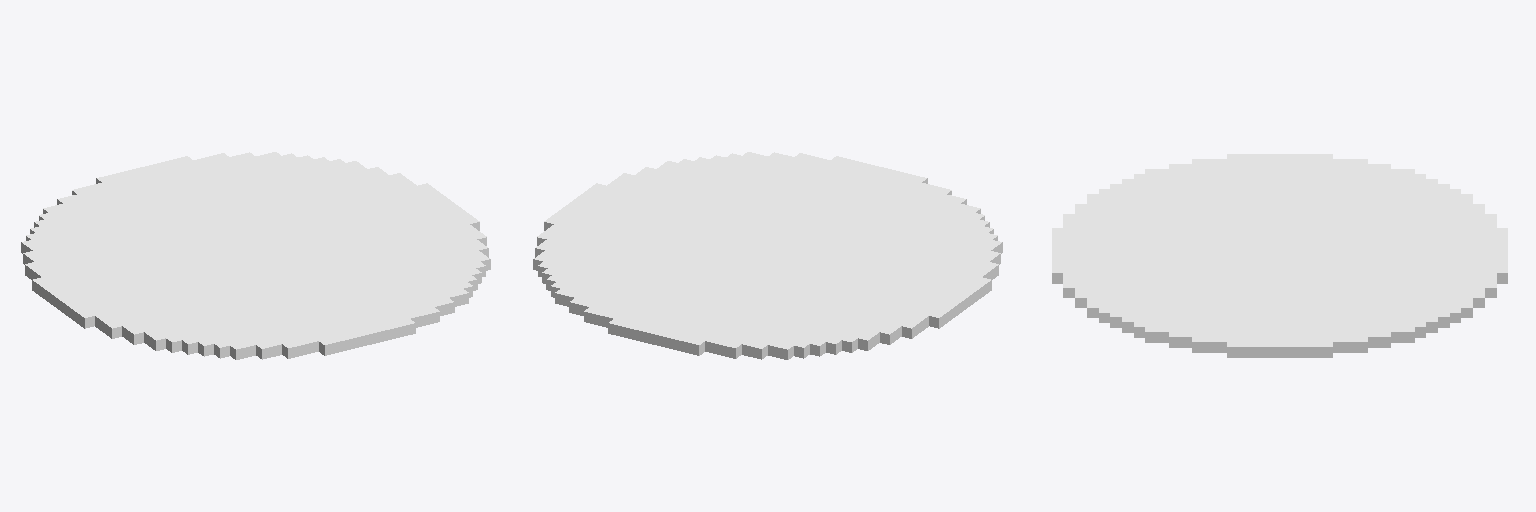
Rendered from Prefabs.obj.
3 views of the same model, side by side, from view 1: azimuth 30°, elevation 25°; view 2: azimuth 150°, elevation 25°; view 3: azimuth 270°, elevation 25° (orthographic).
Visible parts, largest first — view 1: object 1; view 2: object 1; view 3: object 1.
Part boxes in pixels (bbox=[...]): object 1: bbox=[21, 152, 490, 359]; object 1: bbox=[533, 152, 1002, 359]; object 1: bbox=[1052, 154, 1507, 357].
Bounding box in the file's own units: 3.9 × 0.1 × 3.9.